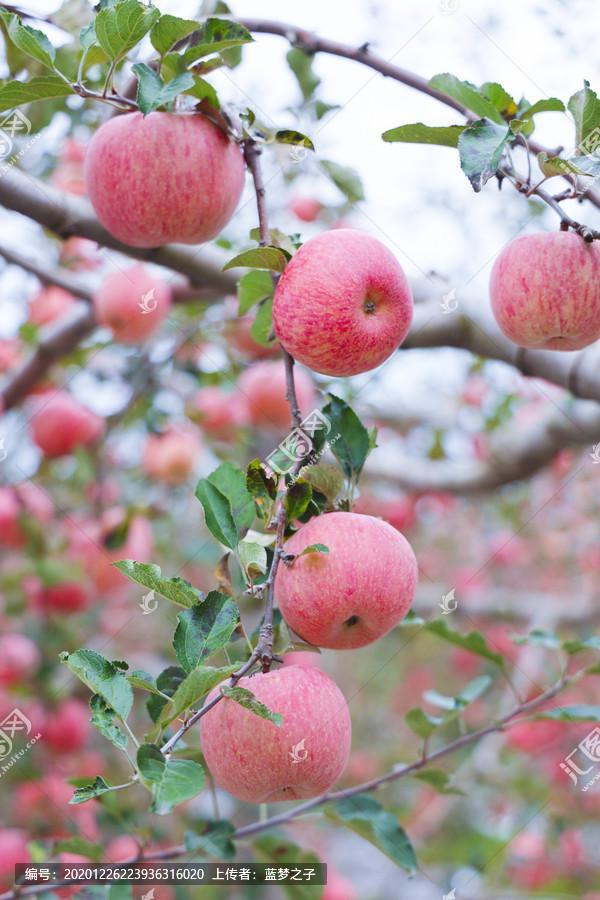apple: (79, 101, 244, 250), (198, 659, 352, 804), (270, 226, 410, 379), (272, 508, 416, 655), (486, 231, 598, 348)
